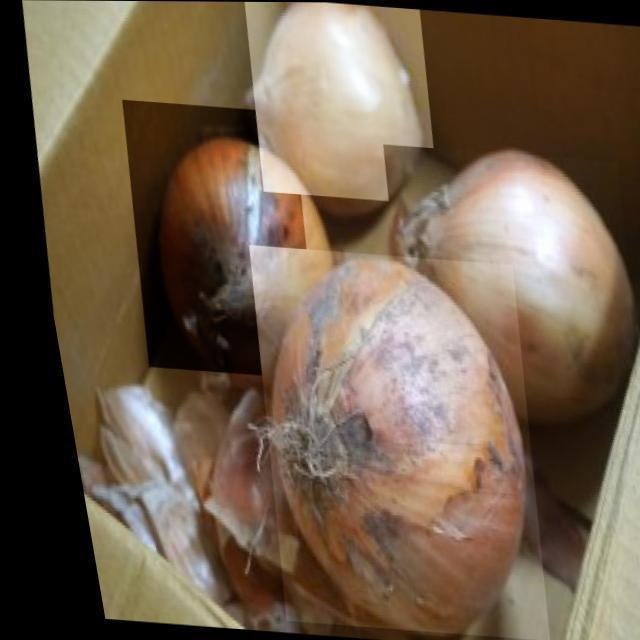Onion: (213, 244, 553, 640), (361, 143, 640, 402), (100, 100, 324, 380), (231, 2, 445, 205)
